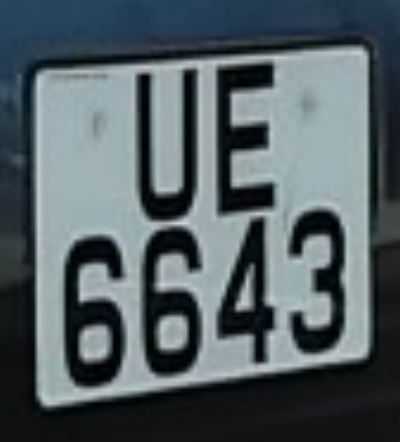3: (269, 188, 352, 355)
4: (205, 209, 285, 365)
6: (43, 216, 134, 385), (123, 214, 208, 378)
E: (200, 56, 293, 221)
U: (123, 56, 214, 225)
